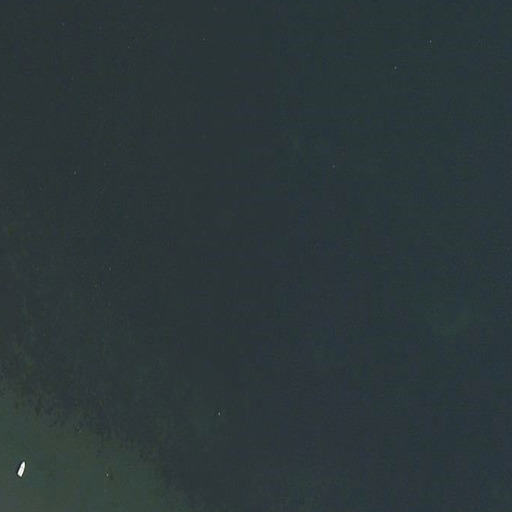ship: (17, 461, 26, 480)
